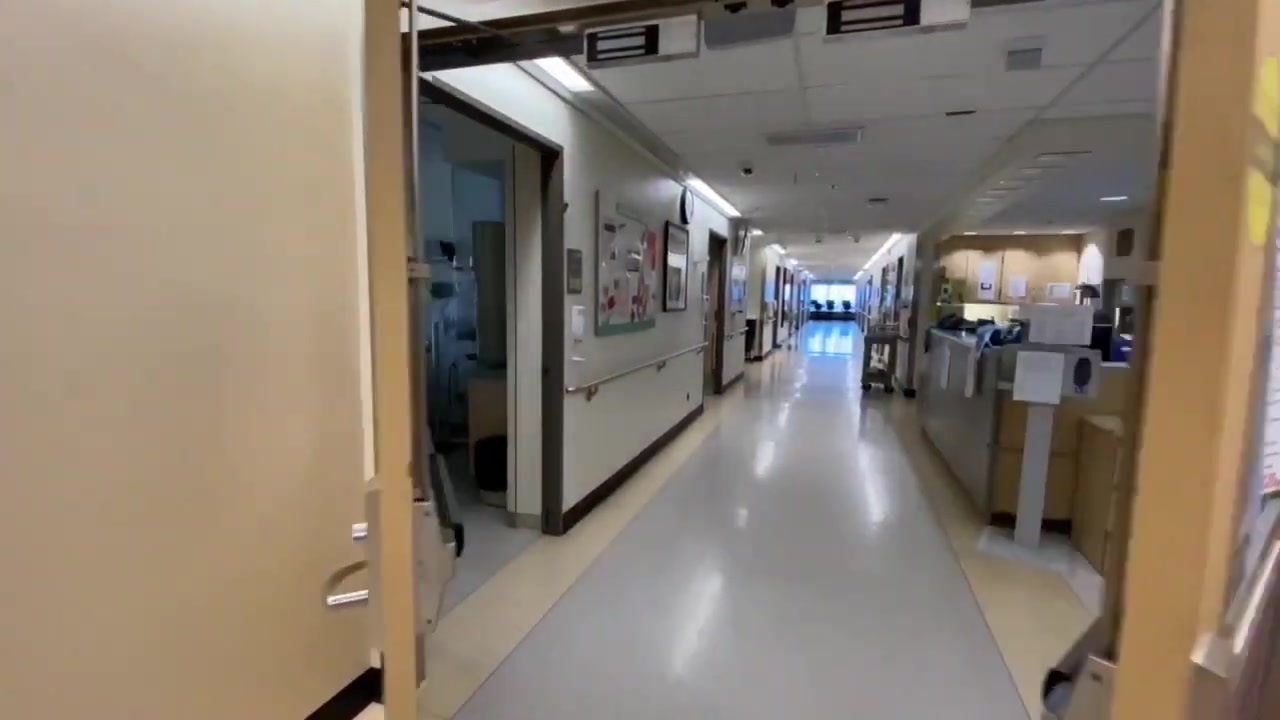cabinet: (946, 237, 1077, 311)
counter: (927, 328, 1130, 524)
dispenser: (1065, 347, 1097, 406), (570, 305, 589, 363)
door_handle: (322, 559, 370, 616)
hallway_assist_bar: (565, 341, 708, 395)
push_latch: (418, 428, 468, 654), (1033, 616, 1108, 720)
utility_cart: (861, 328, 899, 394)
